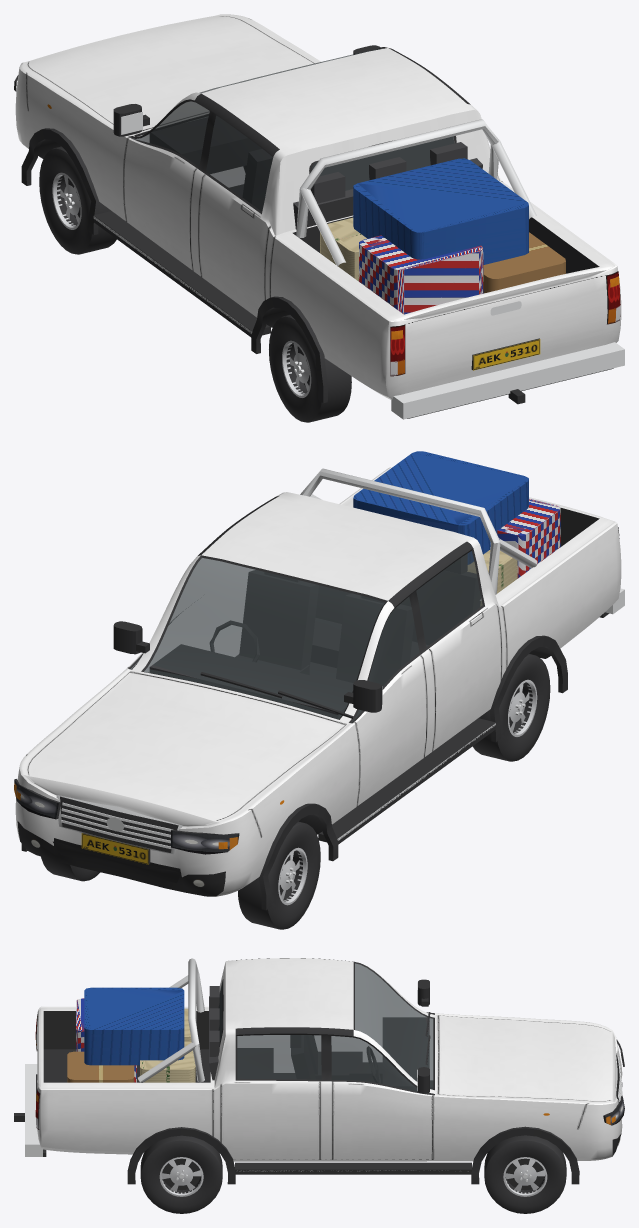
The model's file is pickup_hilux.glb.
3 renders of one model, top to bottom at view 1: azimuth 30°, elevation 25°; view 2: azimuth 150°, elevation 25°; view 3: azimuth 270°, elevation 25°, orthographic. The views are drawn at different scales.
Parts seen in each view (by area): view 1: body, cargo, wheel_rl_mesh, wheel_fl_mesh, sports_bar; view 2: body, cargo, wheel_fl_mesh, wheel_rl_mesh, sports_bar, wheel_fr_mesh; view 3: body, cargo, wheel_fr_mesh, wheel_rr_mesh, sports_bar.
Part boxes in pixels (<box>): body: <box>14,14,624,419</box>; cargo: <box>320,158,565,314</box>; wheel_rl_mesh: <box>269,315,351,422</box>; wheel_fl_mesh: <box>39,146,116,254</box>; sports_bar: <box>296,119,536,266</box>; body: <box>14,467,624,910</box>; cargo: <box>353,451,560,606</box>; wheel_fl_mesh: <box>238,821,320,929</box>; wheel_rl_mesh: <box>473,654,550,761</box>; sports_bar: <box>300,468,537,594</box>; wheel_fr_mesh: <box>41,856,100,881</box>; body: <box>14,958,624,1184</box>; cargo: <box>67,987,195,1082</box>; wheel_fr_mesh: <box>484,1135,566,1213</box>; wheel_rr_mesh: <box>140,1135,222,1213</box>; sports_bar: <box>138,958,204,1082</box>.
Size of the model in its own units: 2.06 by 1.83 by 5.48.
Materials: 12 (6 with a texture image).
